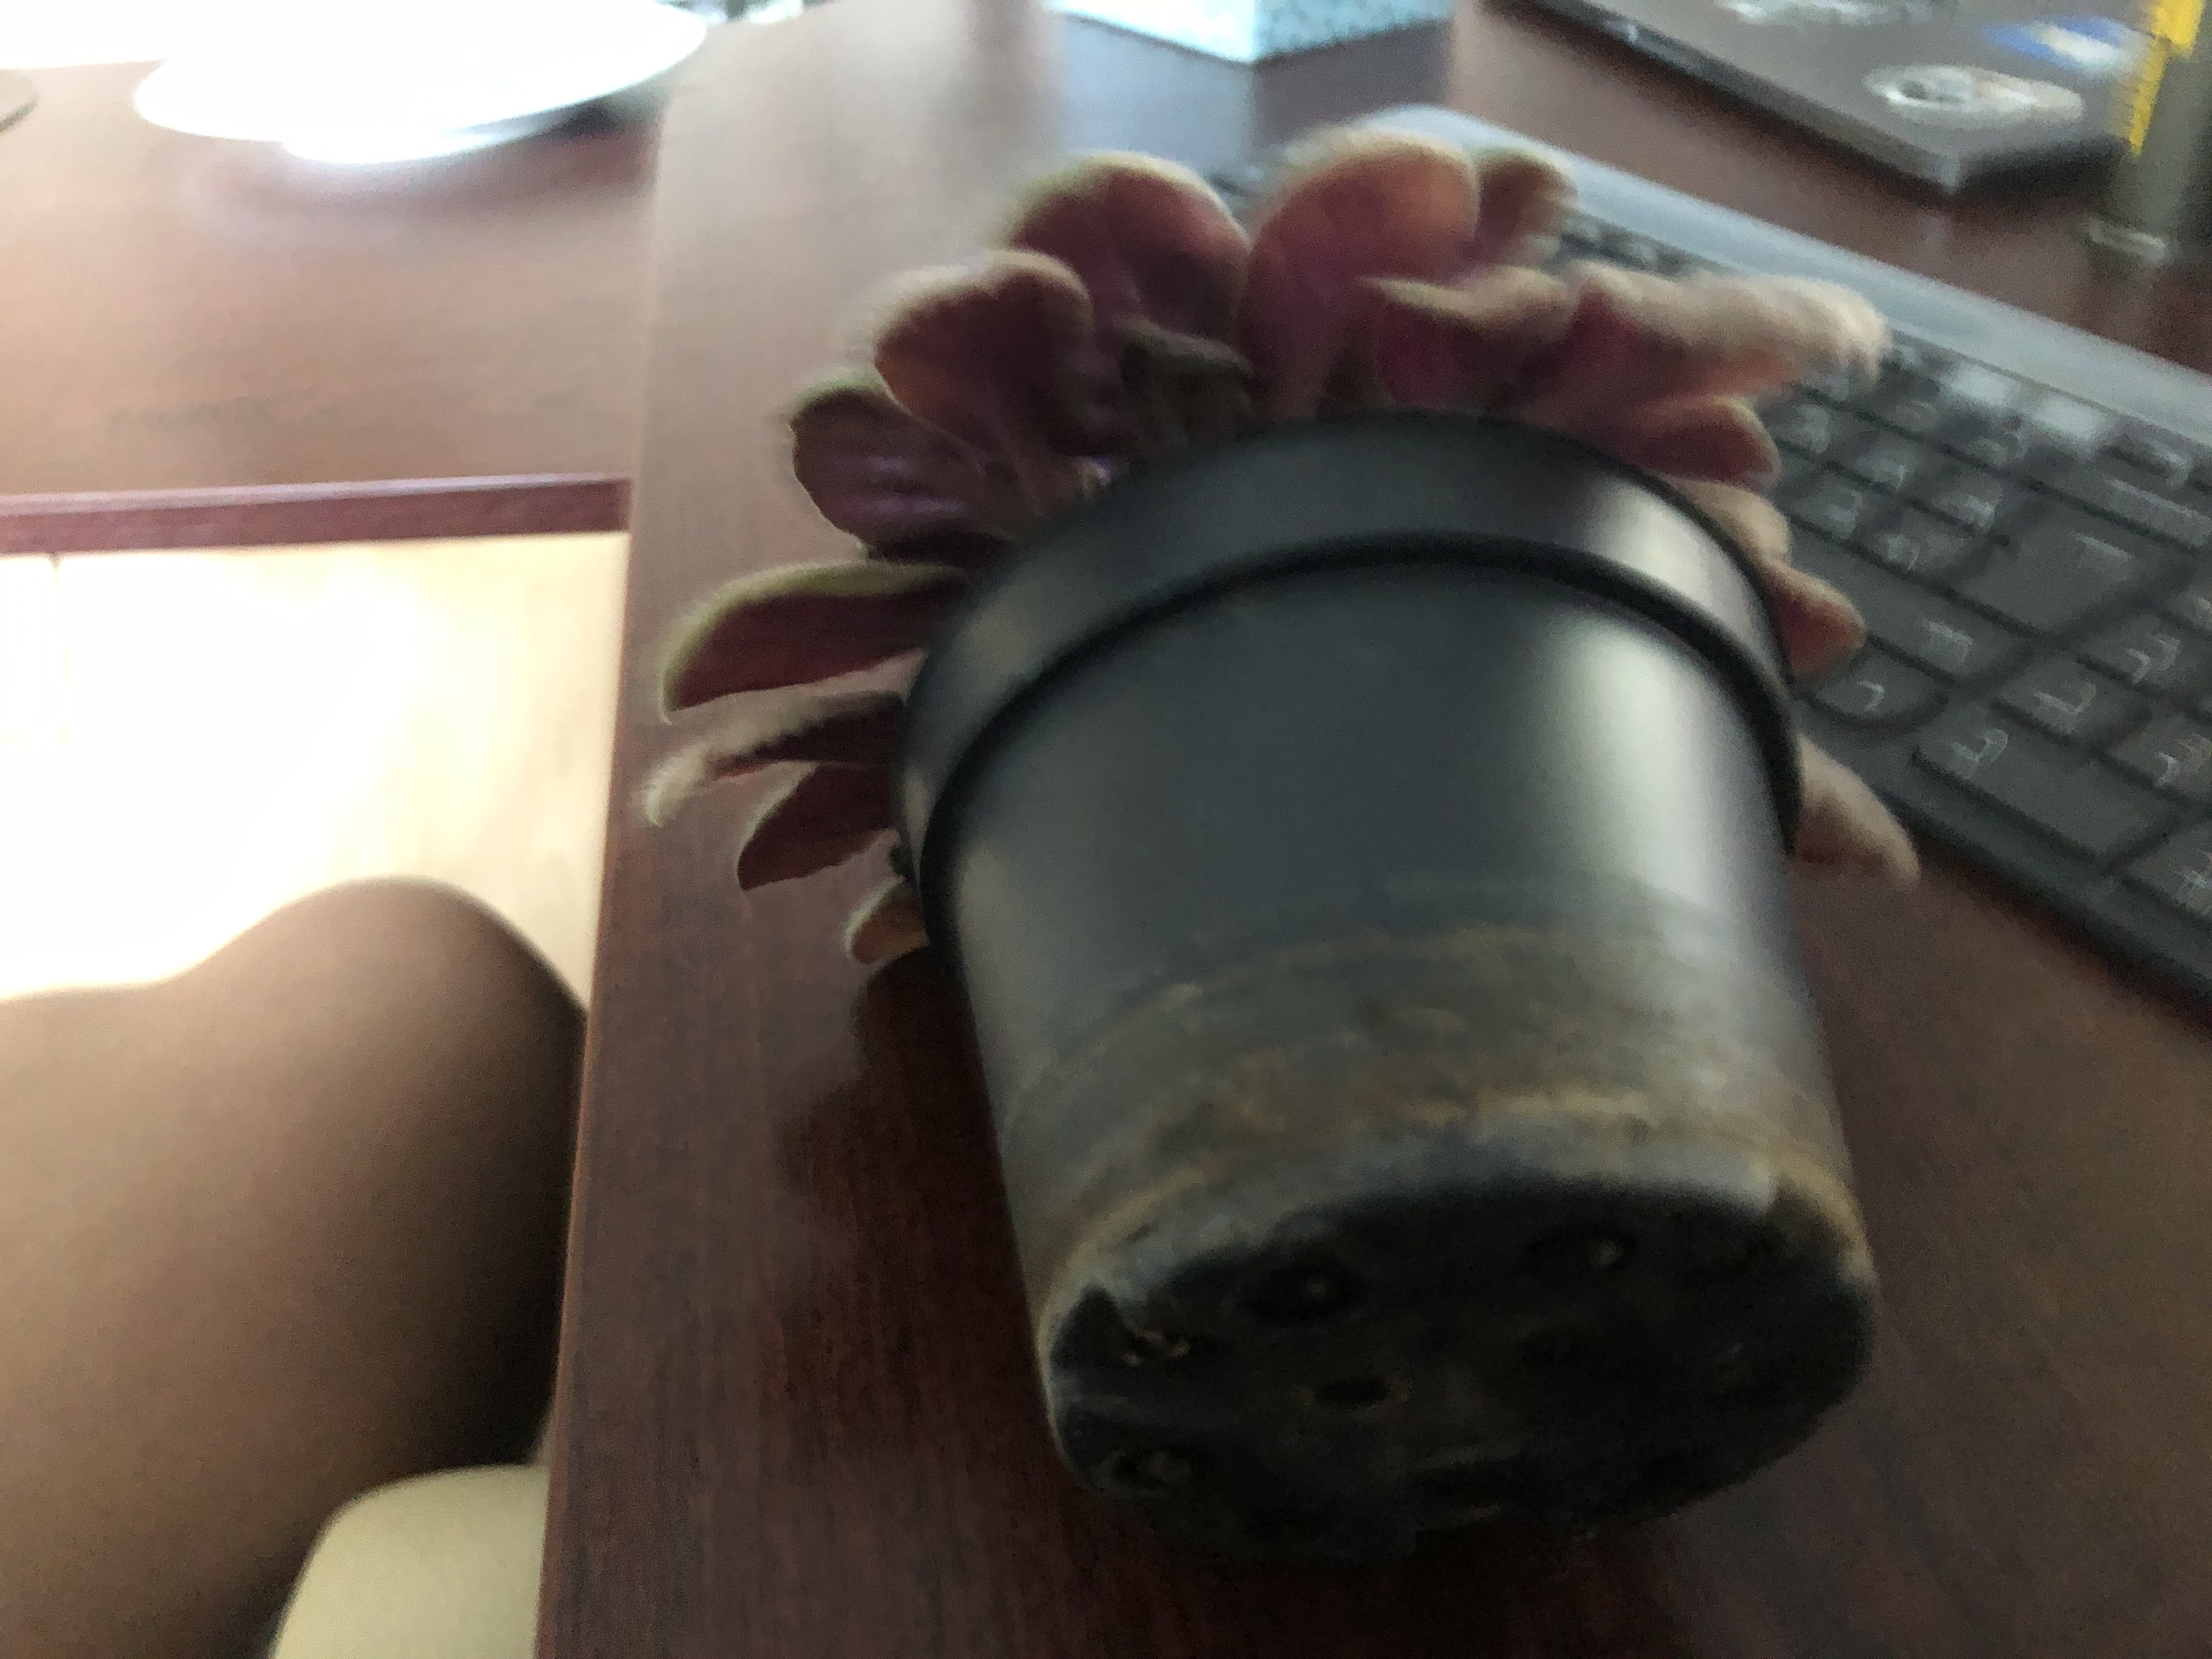ignore: (611, 68, 1984, 1014)
